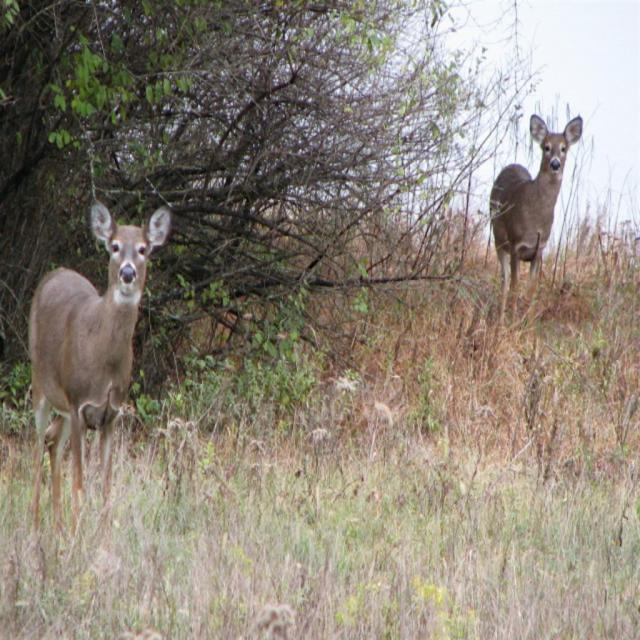Deer: (22, 202, 166, 536), (488, 113, 581, 305)
